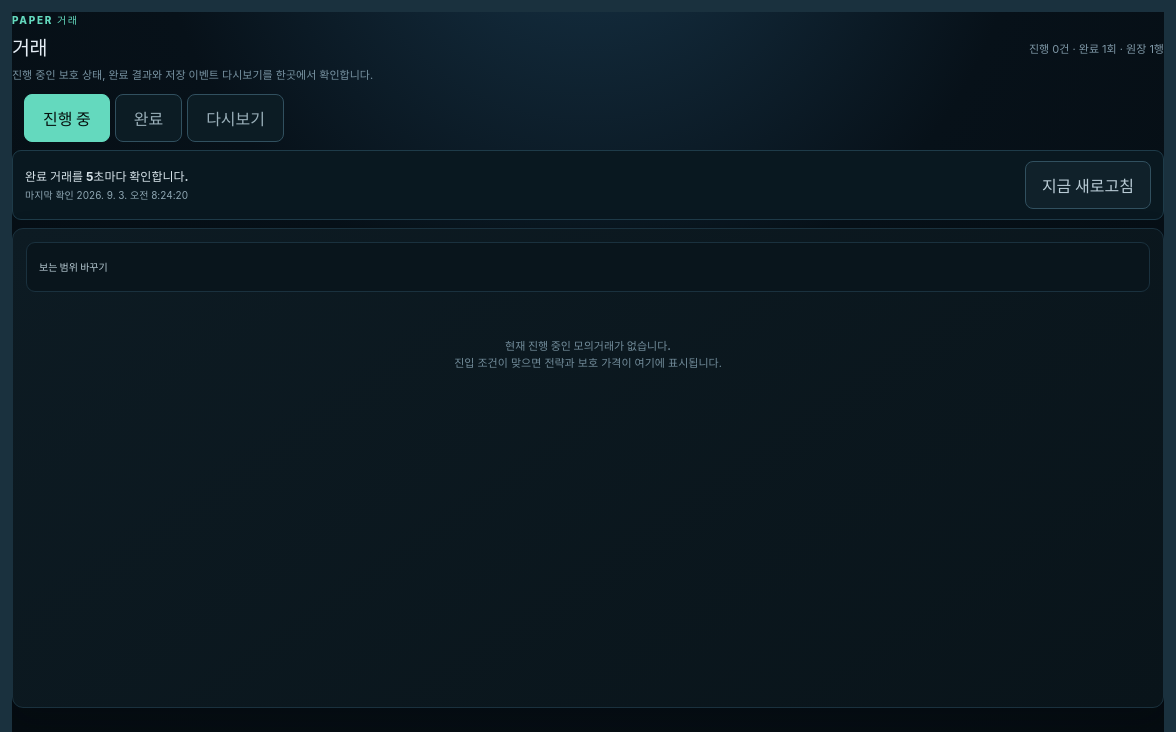
Test: uses the grouped ledger current version when the compact dashboard scope is stale
This screenshot has width=1176, height=732.
Expected: the text "진행 0건 · 완료 1회 · 원장 1행" is shown, [1029,40,1164,56]
Click the tab "완료" at (148, 118), box [115,94,182,142]
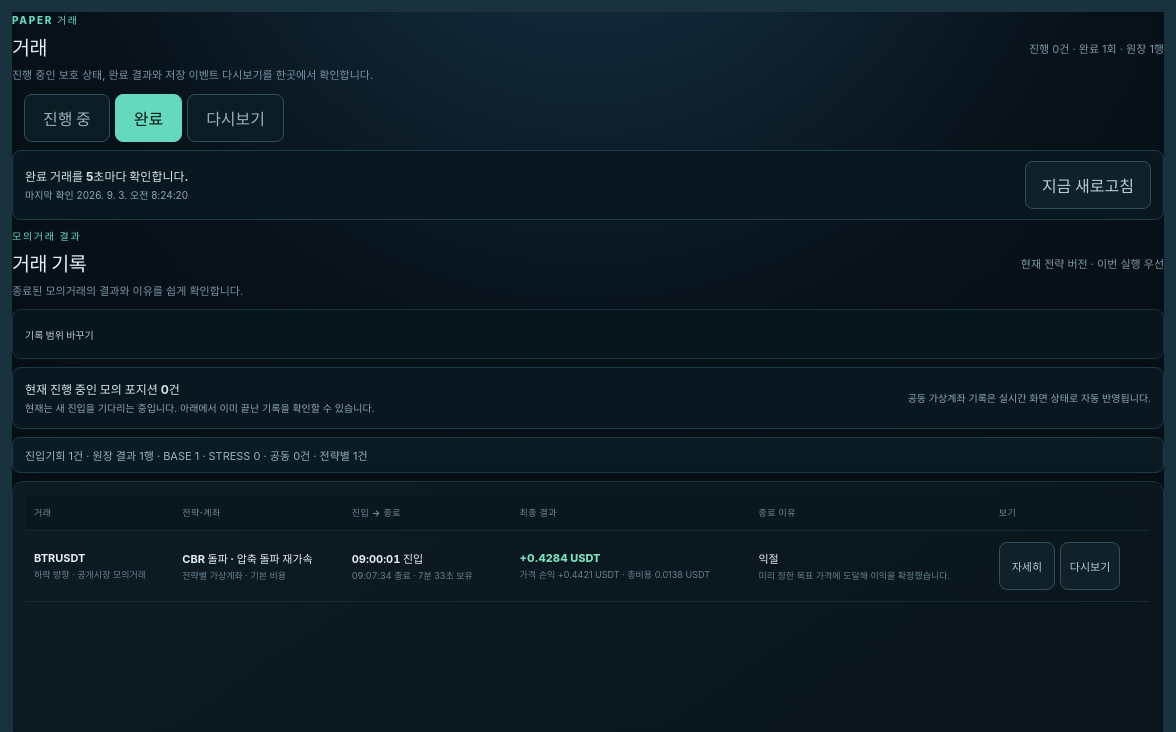
Now the text "BTRUSDT" is shown, box [34,551,85,565]
Now the text "진입기회 1건 · 원장 결과 1행 · BASE 1 · STRESS 0 · 공동 0건 · 전략별 1건" is shown, box [12,437,1164,473]
